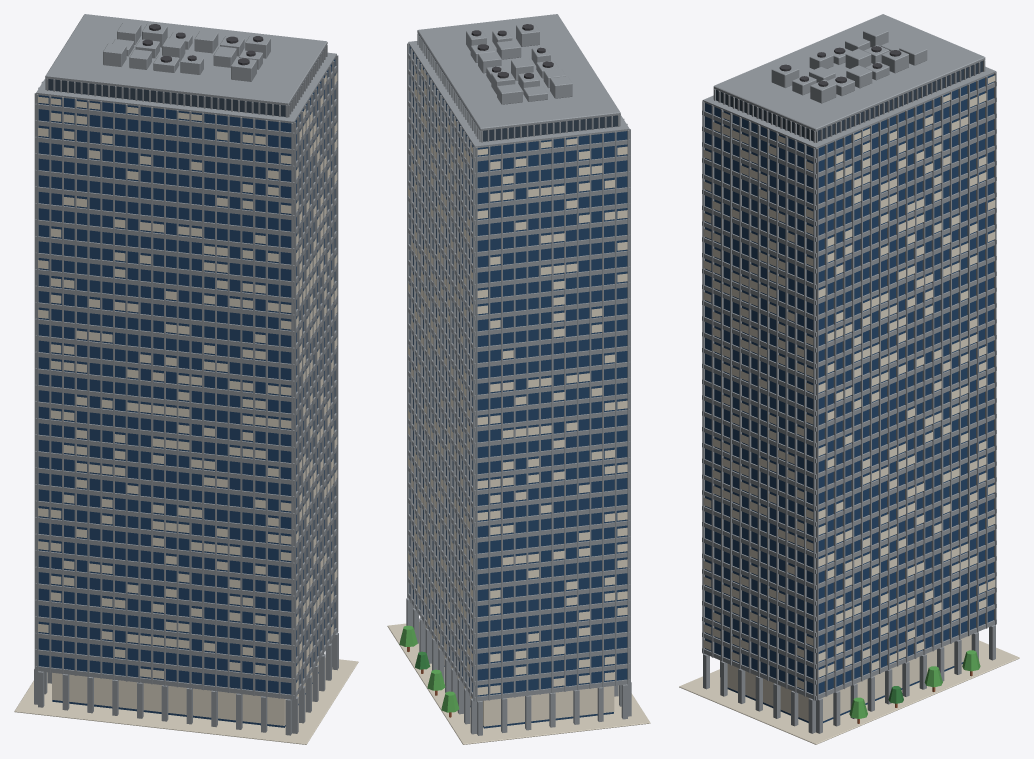
File: 425-market.glb
3 renders of one model, left to right at view 1: azimuth 30°, elevation 25°; view 2: azimuth 150°, elevation 25°; view 3: azimuth 270°, elevation 25°, orthographic. The views are drawn at different scales.
Visible parts, largest first — view 1: 425-market_body, 425-market_night_glow; view 2: 425-market_body, 425-market_night_glow; view 3: 425-market_body, 425-market_night_glow.
Part boxes in pixels (x1,y1,x2,y2): 425-market_body: (14,14,358,744); 425-market_night_glow: (38,73,337,725); 425-market_body: (387,14,650,744); 425-market_night_glow: (408,67,627,726); 425-market_body: (679,14,1019,744); 425-market_night_glow: (703,75,995,721).
Size of the model in its own units: 80.14 by 160 by 80.09.
